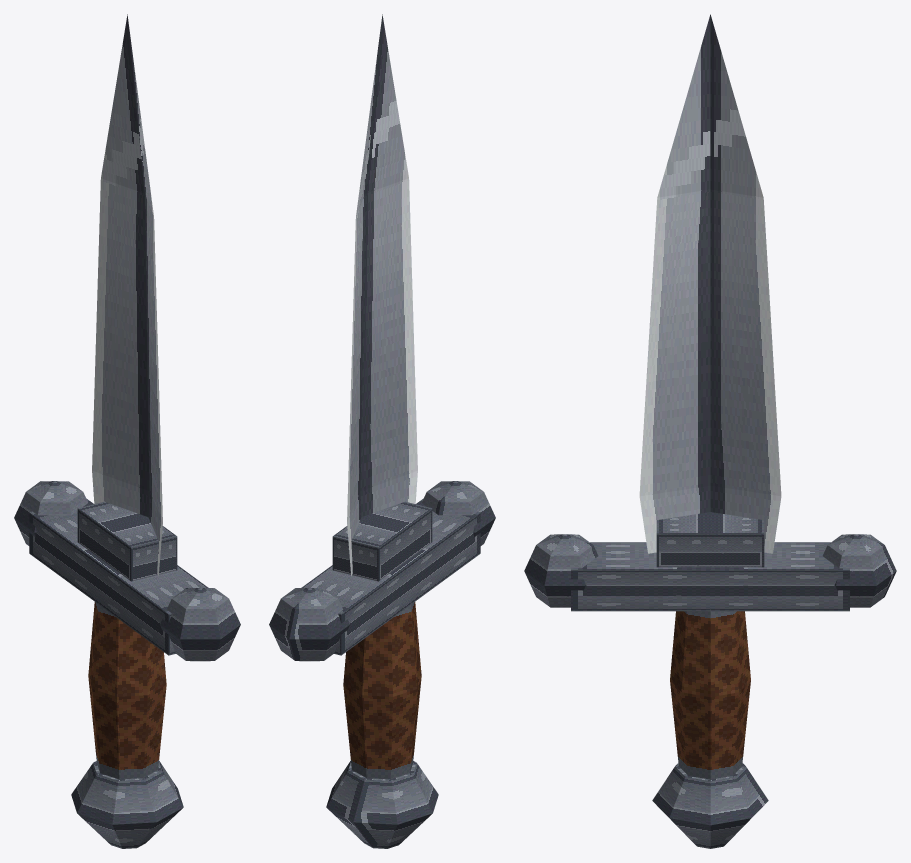
Rendered from faca_de_caca.glb.
3 views of the same model, side by side, from view 1: azimuth 30°, elevation 25°; view 2: azimuth 150°, elevation 25°; view 3: azimuth 270°, elevation 25° (orthographic).
Parts seen in each view (by area): view 1: faca_de_caca; view 2: faca_de_caca; view 3: faca_de_caca.
Boxes of the visible parts, x1,y1,x2,y2 form: faca_de_caca: [14, 14, 240, 848]; faca_de_caca: [269, 14, 495, 848]; faca_de_caca: [524, 14, 896, 848].
Bounding box in the file's own units: 0.092 × 0.72 × 0.294.
Materials: 1 (1 with a texture image).
